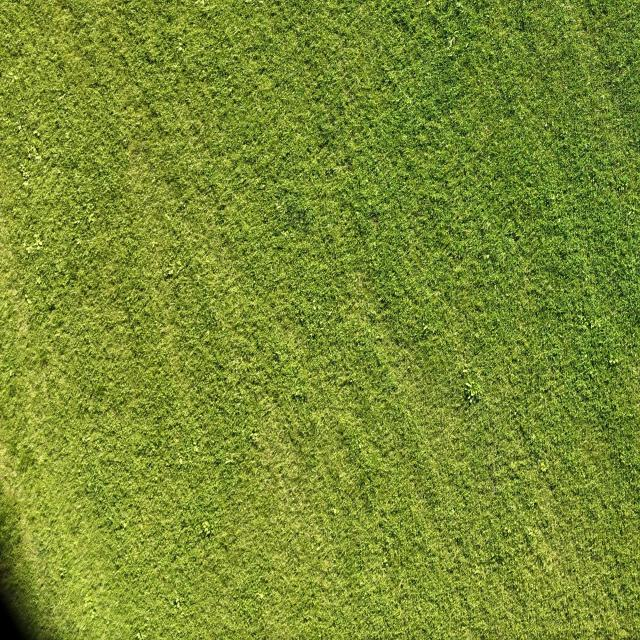rumex: (135, 0, 230, 85), (350, 369, 416, 480), (193, 548, 275, 633), (422, 0, 478, 58), (312, 115, 345, 169), (458, 360, 487, 400), (388, 5, 412, 36), (160, 255, 186, 280), (420, 315, 442, 339), (340, 80, 354, 110), (26, 145, 42, 165), (52, 254, 66, 274), (289, 391, 305, 406), (84, 431, 101, 445), (376, 296, 390, 312), (316, 137, 330, 152), (589, 318, 603, 330), (492, 553, 506, 565), (25, 244, 40, 255), (339, 378, 352, 390), (84, 596, 95, 610), (143, 50, 153, 65), (481, 214, 491, 229), (575, 313, 586, 326), (369, 210, 380, 222), (234, 400, 244, 412), (164, 267, 174, 279), (505, 222, 515, 234), (21, 168, 31, 180), (558, 389, 568, 401), (538, 460, 548, 472), (403, 92, 412, 105), (370, 216, 379, 229), (464, 382, 474, 393), (270, 352, 280, 363), (8, 287, 19, 297), (610, 356, 620, 366), (48, 52, 58, 62), (250, 431, 259, 442), (86, 213, 95, 224), (431, 289, 442, 298), (622, 178, 629, 192), (163, 210, 171, 222), (588, 370, 596, 382), (617, 286, 625, 298), (178, 198, 186, 209), (119, 519, 127, 530), (203, 525, 211, 536), (82, 432, 90, 443), (447, 565, 456, 574), (274, 203, 284, 211), (339, 469, 347, 479), (467, 393, 475, 403), (330, 506, 338, 516), (527, 527, 535, 537), (192, 444, 200, 454), (459, 625, 467, 635), (48, 302, 56, 312), (136, 630, 144, 640), (586, 319, 593, 330), (174, 601, 181, 612), (514, 233, 523, 241), (582, 354, 589, 364), (356, 439, 363, 449), (200, 524, 207, 534), (90, 607, 97, 617), (381, 557, 387, 568), (150, 240, 158, 248), (483, 254, 491, 262), (461, 367, 469, 375), (177, 456, 184, 465), (422, 323, 429, 332), (23, 180, 30, 189), (57, 95, 64, 104), (78, 625, 85, 634), (532, 499, 538, 509), (34, 130, 41, 138), (75, 238, 82, 246), (10, 74, 17, 82), (224, 458, 232, 465), (456, 2, 463, 10), (219, 204, 226, 212), (36, 277, 42, 286), (263, 215, 269, 224), (60, 569, 66, 578), (584, 141, 590, 150), (312, 304, 318, 312), (550, 194, 556, 202), (26, 152, 32, 160), (25, 297, 31, 305), (17, 124, 23, 132), (36, 239, 42, 247), (506, 526, 512, 534), (591, 177, 597, 185), (583, 471, 588, 480), (105, 617, 110, 626), (544, 122, 550, 129), (65, 132, 70, 140), (123, 105, 128, 112), (601, 94, 606, 100), (9, 370, 13, 377), (426, 1, 430, 8)
